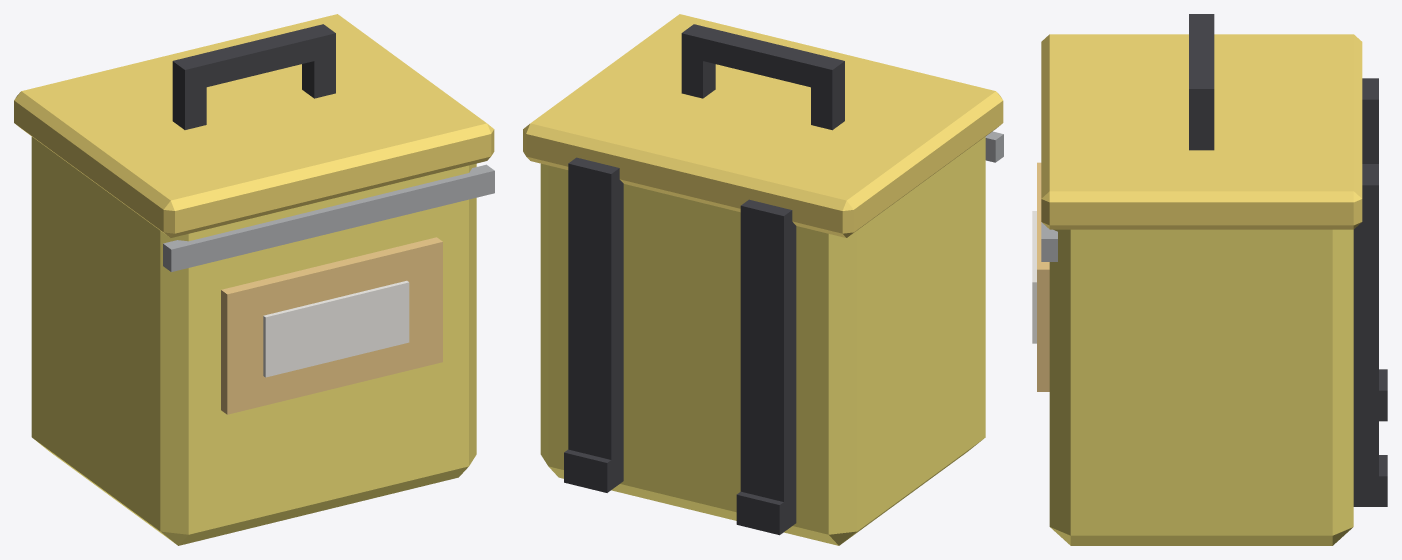
File: prop_delivery_bag_01.glb
The picture shows the model from 3 angles, left to right: view 1: azimuth 30°, elevation 25°; view 2: azimuth 150°, elevation 25°; view 3: azimuth 270°, elevation 25°; orthographic projection.
Parts seen in each view (by area): view 1: prop_delivery_bag_01_body; view 2: prop_delivery_bag_01_body; view 3: prop_delivery_bag_01_body.
Boxes of the visible parts, left/top/right/bottom form: prop_delivery_bag_01_body: left=14, top=14, right=494, bottom=545; prop_delivery_bag_01_body: left=523, top=14, right=1003, bottom=545; prop_delivery_bag_01_body: left=1032, top=14, right=1387, bottom=545.
Size of the model in its own units: 0.46 by 0.555 by 0.4205.
